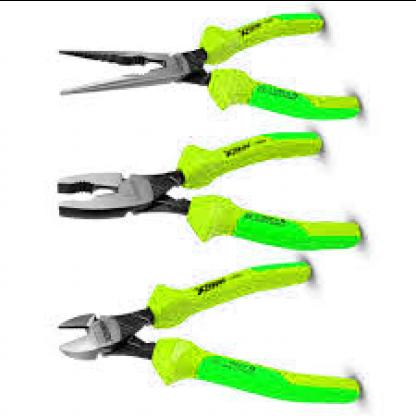Pliers: (53, 254, 371, 406), (46, 121, 371, 255), (55, 8, 366, 127)
